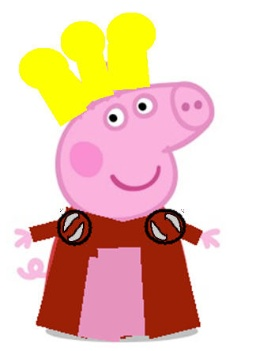Peppa: (14, 15, 227, 344)
